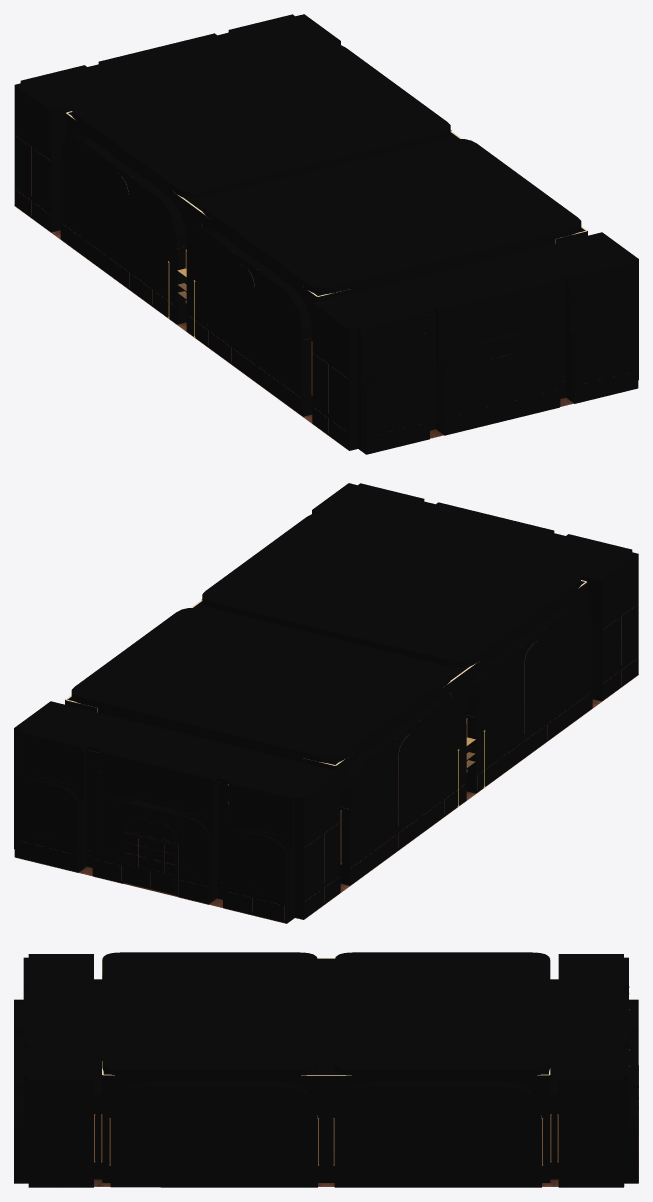
File: gameready_casino_scene.glb
3 views of the same model, one above another, from view 1: azimuth 30°, elevation 25°; view 2: azimuth 150°, elevation 25°; view 3: azimuth 270°, elevation 25° (orthographic). The views are drawn at different scales.
Visible parts, largest first — view 1: Material2 (×3), Material3; view 2: Material2 (×3), Material3 (×3); view 3: Material2 (×3), Material3 (×2).
Boxes of the visible parts, x1,y1,x2,y2 form: Material2 (×3): (14,14,638,454); Material3: (15,111,587,450); Material2 (×3): (14,483,638,923); Material3 (×3): (15,580,638,923); Material2 (×3): (14,952,638,1187); Material3 (×2): (27,958,638,1186).
Size of the model in its own units: 485 by 203 by 1017.
Materials: 12 (12 with a texture image).
